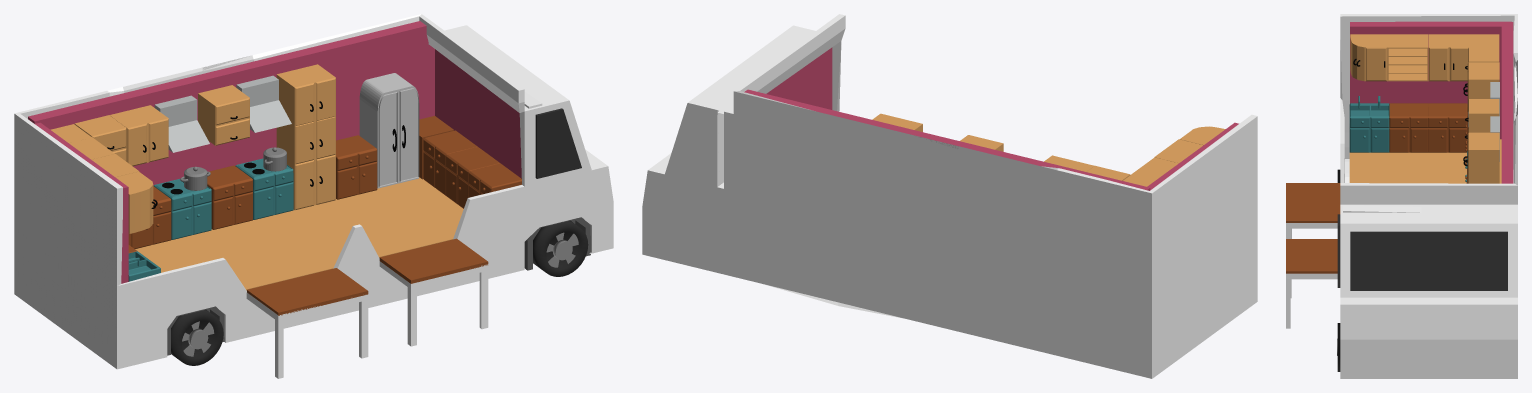
The model's file is Food Truck.fbx.
The picture shows the model from 3 angles, left to right: view 1: azimuth 30°, elevation 25°; view 2: azimuth 150°, elevation 25°; view 3: azimuth 270°, elevation 25°; orthographic projection. The views are drawn at different scales.
Parts seen in each view (by area): view 1: Truck, Floor, Wall 1.001, Wall 1.002, Wall 1.003, Fridge, Truck Table 1, Normal Up Cupboard.004, Truck Table 2, Normal Up Cupboard.003, Front Window, Normal Up Cupboard.002 (+24 smaller); view 2: Truck, Wall 1.003, Wall 1.001, Shelves, Normal Up Cupboard, Wall 1, Curved Up Cupboard; view 3: Truck, WindScreen, Wall 1, Floor, Truck Table 1, Wall 1.001, Cube.002, Shelves, Cube.003, Cube.005, Normal Up Cupboard, Truck Table 2 (+7 smaller).
Part boxes in pixels (x1,y1,x2,y2): Truck: (14,14,613,378); Floor: (135,177,463,290); Wall 1.001: (28,21,428,185); Wall 1.002: (133,45,434,184); Wall 1.003: (435,49,521,178); Fridge: (359,73,419,188); Truck Table 1: (247,268,368,315); Normal Up Cupboard.004: (276,64,335,126); Truck Table 2: (379,238,488,283); Normal Up Cupboard.003: (198,85,249,145); Front Window: (535,108,581,178); Normal Up Cupboard.002: (109,105,168,166); Truck: (642,14,1257,378); Wall 1.003: (766,47,832,109); Wall 1.001: (744,89,1150,190); Shelves: (1154,139,1203,163); Normal Up Cupboard: (1130,157,1178,179); Wall 1: (1147,122,1238,190); Curved Up Cupboard: (1180,126,1225,145); Truck: (1286,14,1517,378); WindScreen: (1350,231,1507,290); Wall 1: (1350,21,1511,139); Floor: (1349,139,1501,183); Truck Table 1: (1286,183,1340,222); Wall 1.001: (1501,22,1513,183); Cube.002: (1349,96,1389,152); Shelves: (1387,34,1428,81); Cube.003: (1389,103,1428,152); Cube.005: (1428,103,1467,152); Normal Up Cupboard: (1429,34,1468,81); Truck Table 2: (1286,239,1337,273).
Bounding box in the file's own units: 854 × 1821 × 696.
